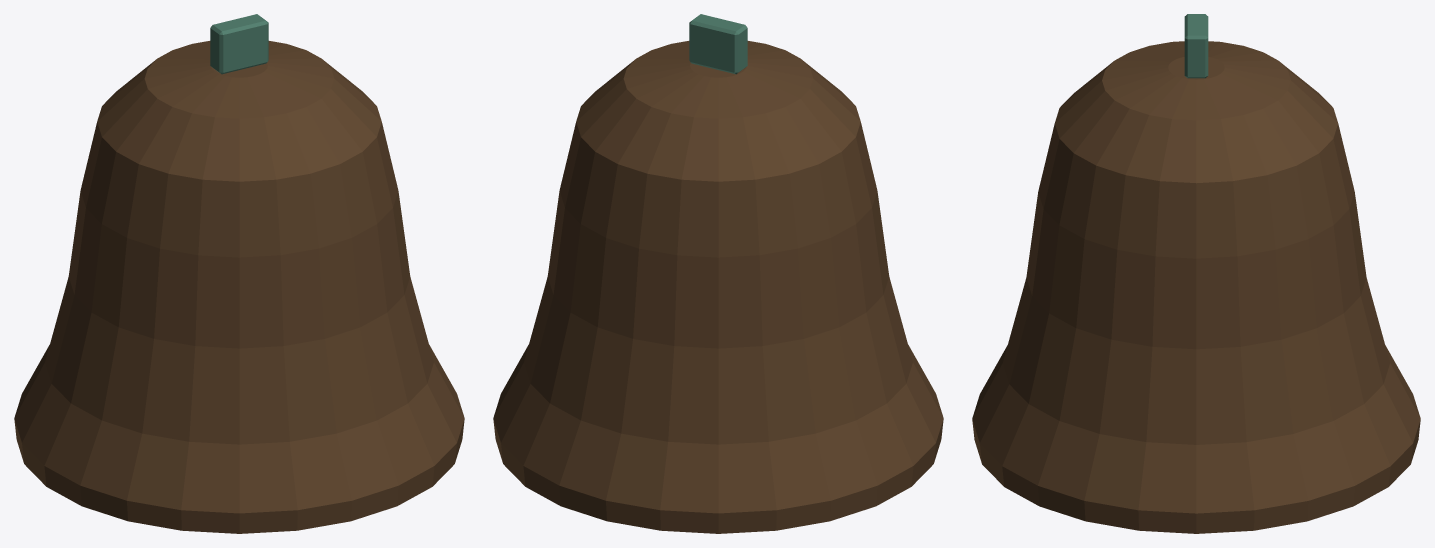
Rendered from Prop_Lab_EchoBell_S15.glb.
The picture shows the model from 3 angles, left to right: view 1: azimuth 30°, elevation 25°; view 2: azimuth 150°, elevation 25°; view 3: azimuth 270°, elevation 25°; orthographic projection.
Visible parts, largest first — view 1: Prop_Lab_EchoBell_S15; view 2: Prop_Lab_EchoBell_S15; view 3: Prop_Lab_EchoBell_S15.
Boxes of the visible parts, left/top/right/bottom form: Prop_Lab_EchoBell_S15: left=14, top=14, right=464, bottom=533; Prop_Lab_EchoBell_S15: left=493, top=14, right=943, bottom=533; Prop_Lab_EchoBell_S15: left=972, top=14, right=1420, bottom=533.
Size of what is drawn, in the model's own units: 0.4894 by 0.5 by 0.4894.
